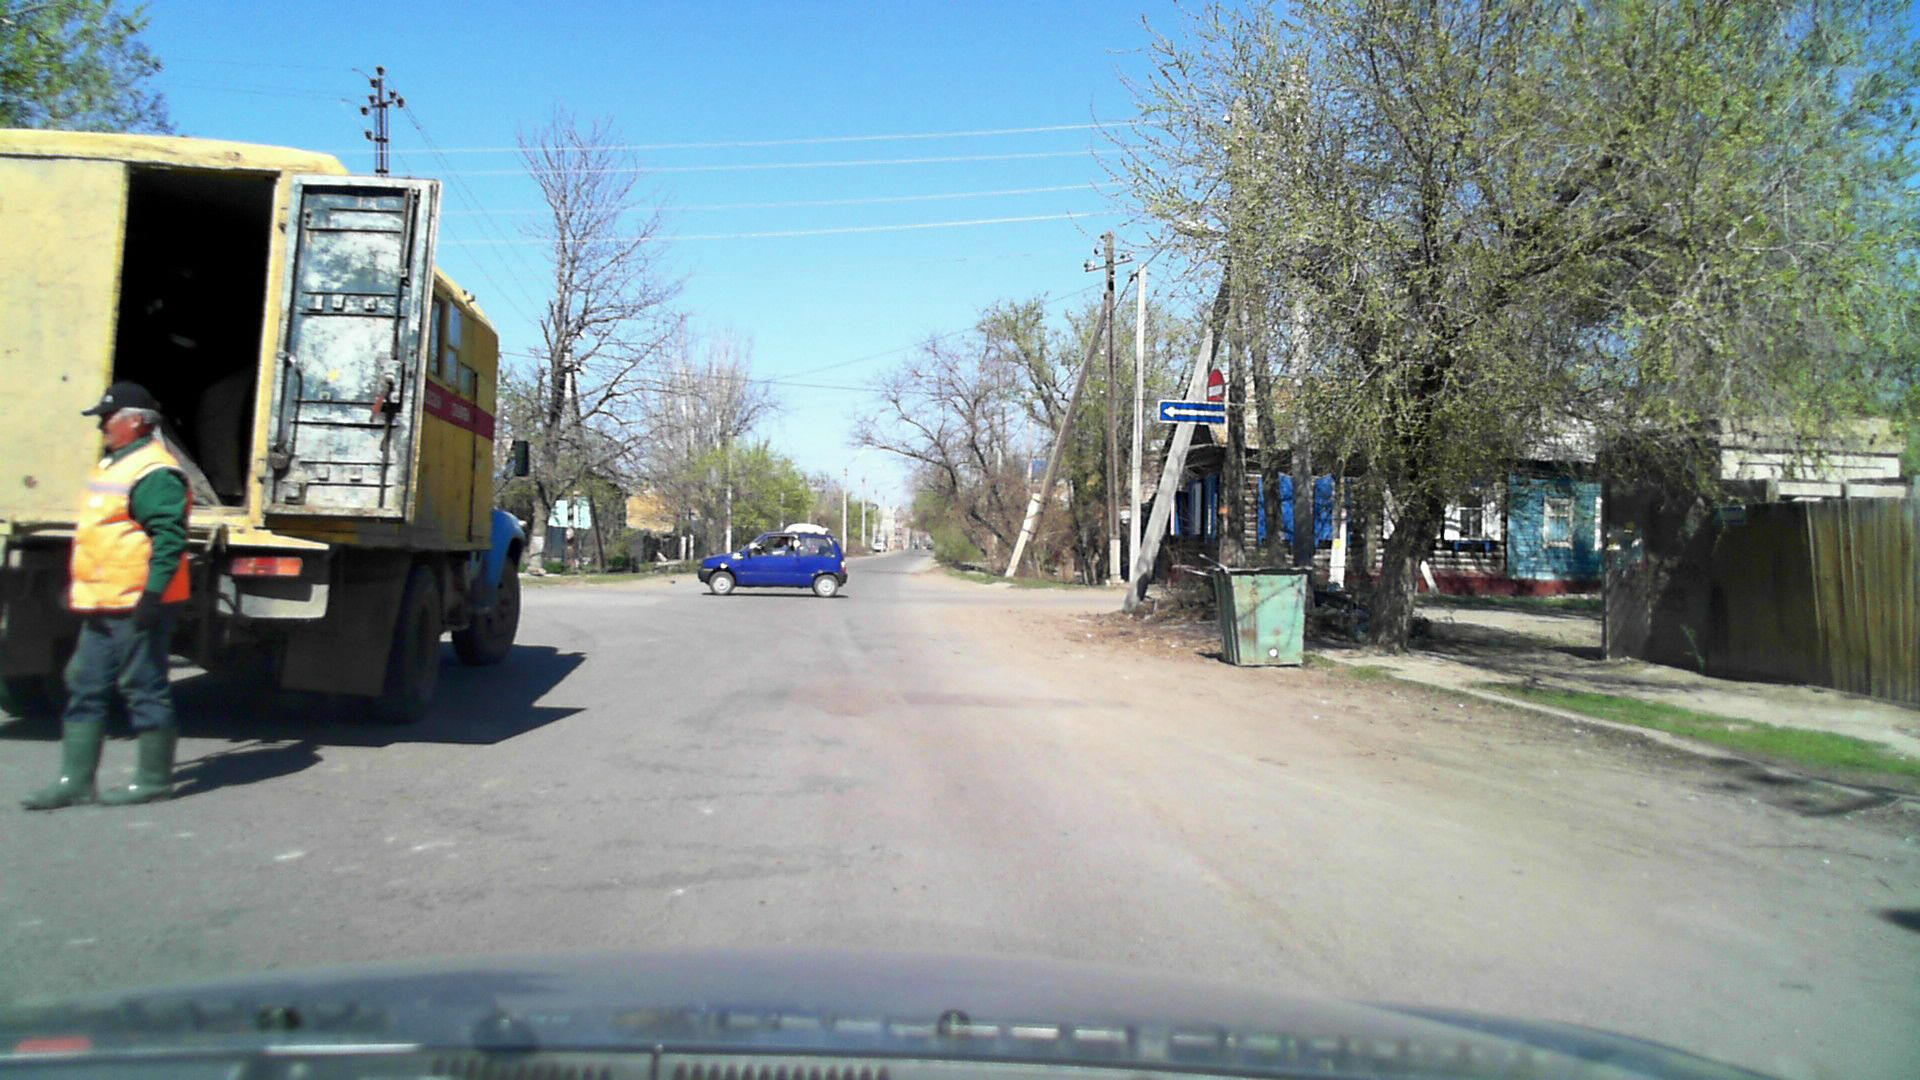One-Way Traffic: (1158, 400, 1226, 423)
